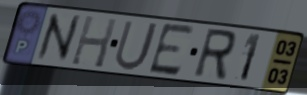1: (238, 32, 263, 85)
E: (146, 22, 198, 79)
H: (68, 13, 120, 70)
N: (34, 11, 83, 63)
R: (190, 26, 239, 83)
U: (112, 19, 162, 73)
